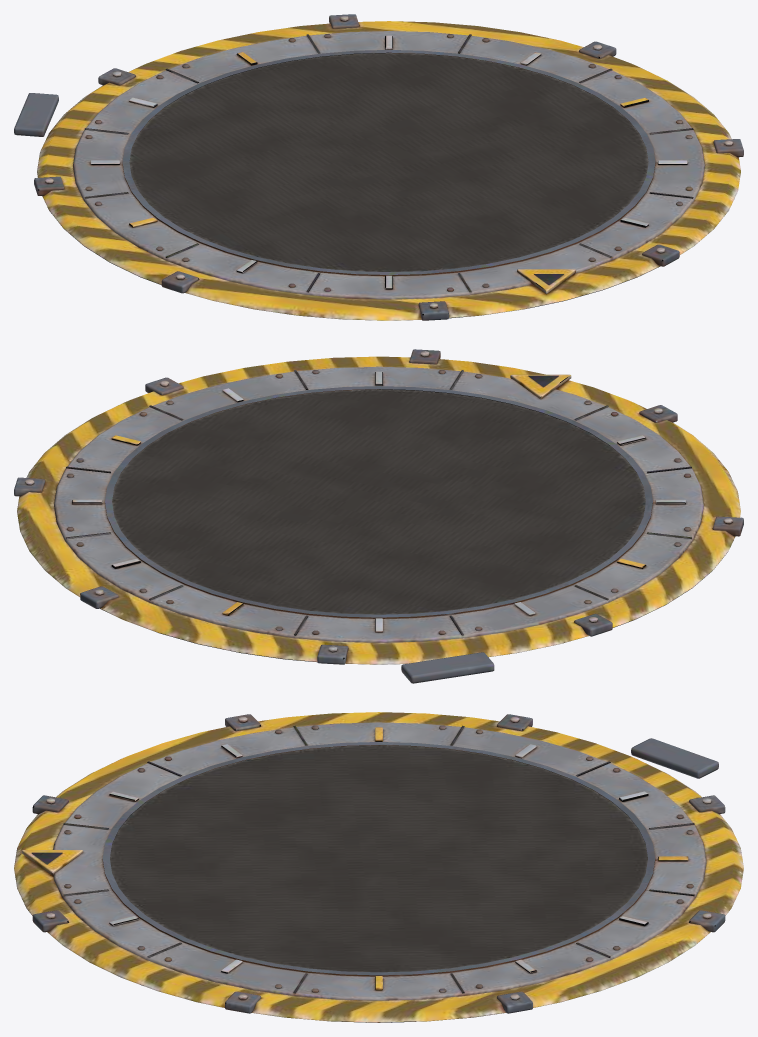
Rendered from ws_turntable.glb.
The picture shows the model from 3 angles, top to bottom: view 1: azimuth 30°, elevation 25°; view 2: azimuth 150°, elevation 25°; view 3: azimuth 270°, elevation 25°; orthographic projection. The views are drawn at different scales.
Parts seen in each view (by area): view 1: deck; view 2: deck; view 3: deck.
Part boxes in pixels (<box>): deck: <box>14,14,743,320</box>; deck: <box>14,349,743,683</box>; deck: <box>14,712,743,1022</box>.
Bounding box in the file's own units: 4.07 × 0.075 × 4.07.
Materials: 2 (1 with a texture image).
